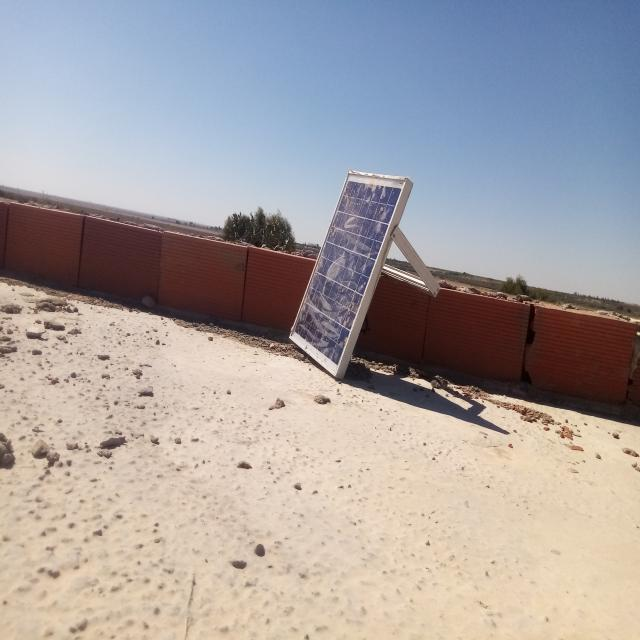faulty: (290, 171, 406, 376)
